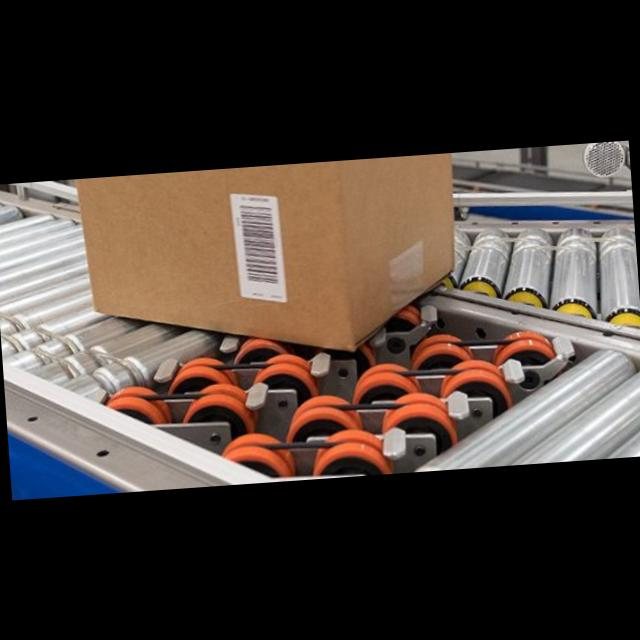box: (82, 152, 464, 364)
